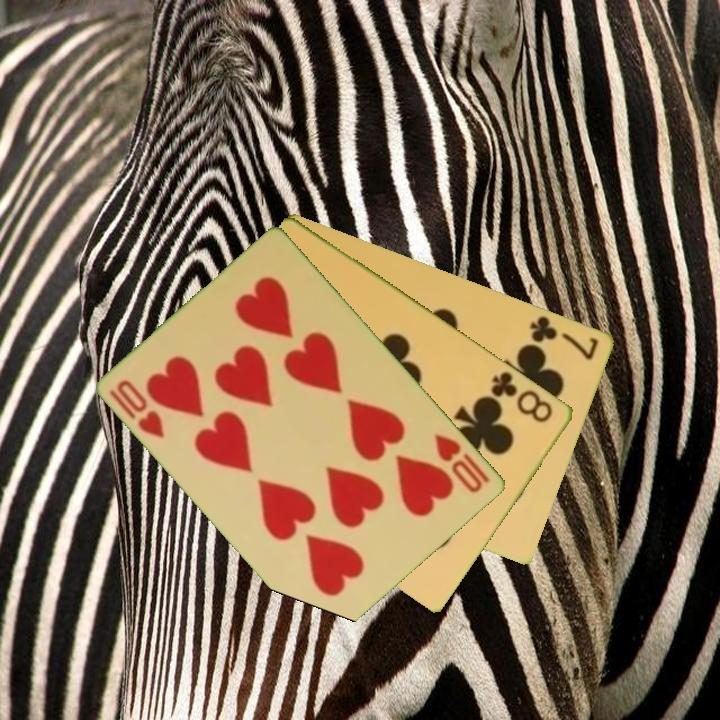10h: (431, 430, 493, 496), (106, 376, 168, 442)
7c: (526, 312, 602, 363)
8c: (487, 368, 556, 426)
